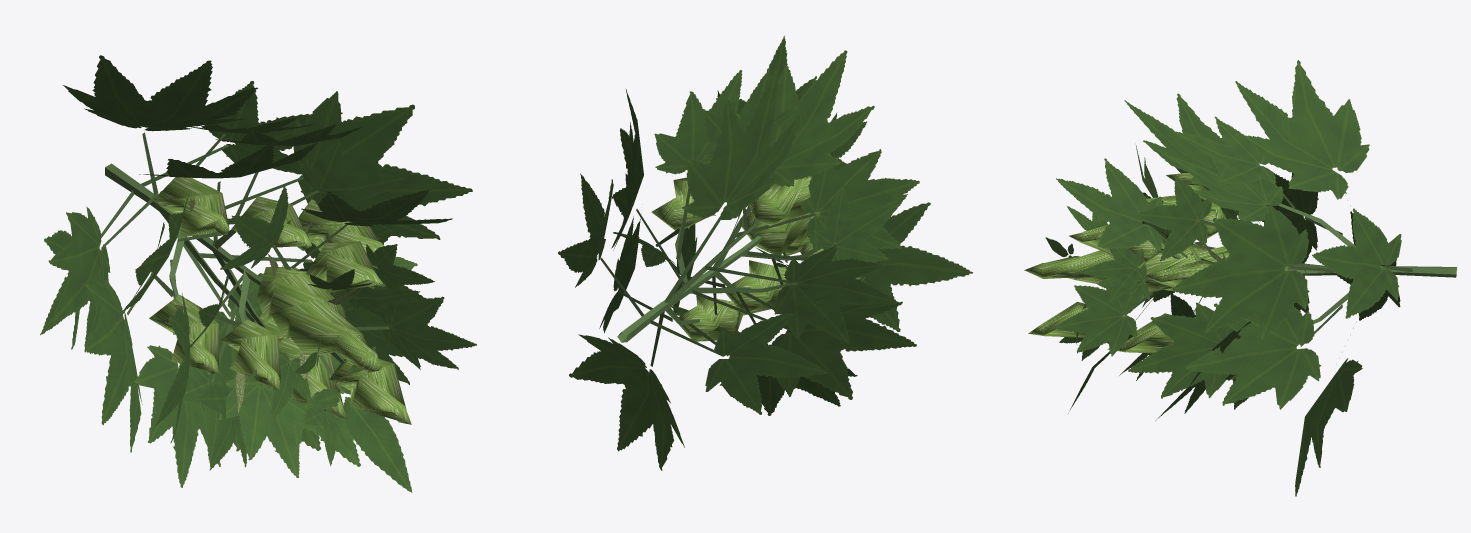
The model's file is p_kush_flowering_c0_cards.obj.
3 views of the same model, side by side, from view 1: azimuth 30°, elevation 25°; view 2: azimuth 150°, elevation 25°; view 3: azimuth 270°, elevation 25° (orthographic). The views are drawn at different scales.
Bounding box in the file's own units: 1.22 × 1.49 × 1.33.
Materials: 1 (1 with a texture image).
